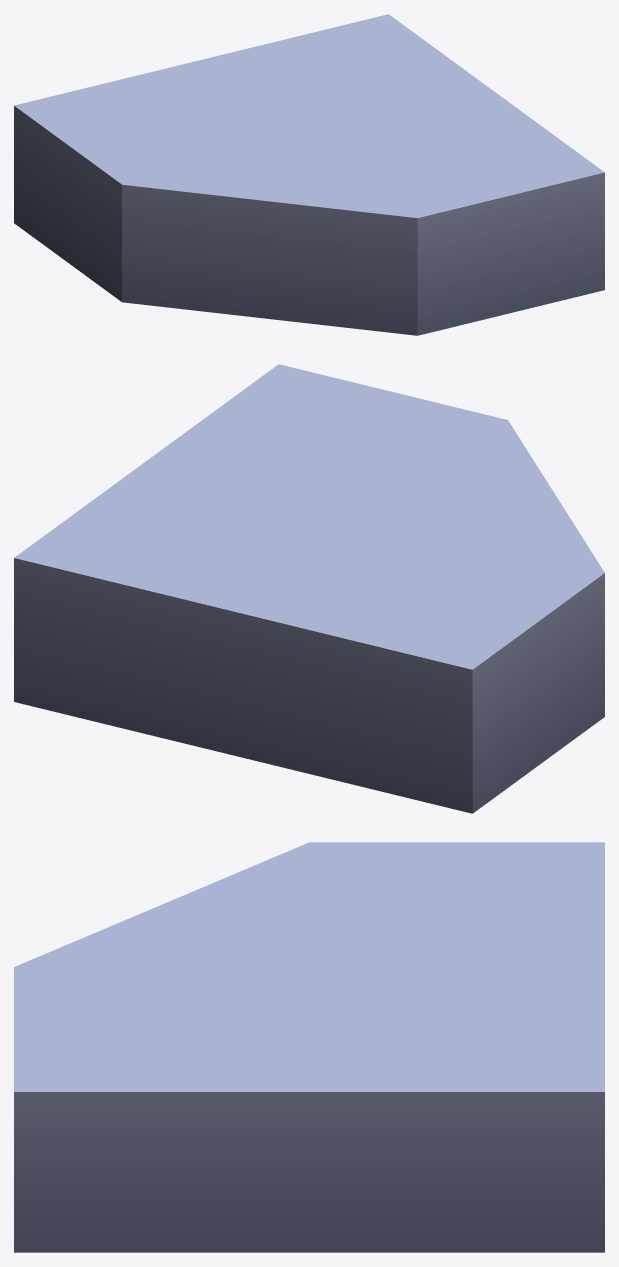
Rendered from floor-corner.glb.
3 renders of one model, top to bottom at view 1: azimuth 30°, elevation 25°; view 2: azimuth 150°, elevation 25°; view 3: azimuth 270°, elevation 25°, orthographic. The views are drawn at different scales.
Visible parts, largest first — view 1: floor-corner; view 2: floor-corner; view 3: floor-corner.
Boxes of the visible parts, x1=… form: floor-corner: x1=14, y1=14, x2=604, y2=335; floor-corner: x1=14, y1=364, x2=604, y2=813; floor-corner: x1=14, y1=842, x2=604, y2=1252.
Size of the model in its own units: 1 by 0.3 by 1.
1 material, 1 textured.
